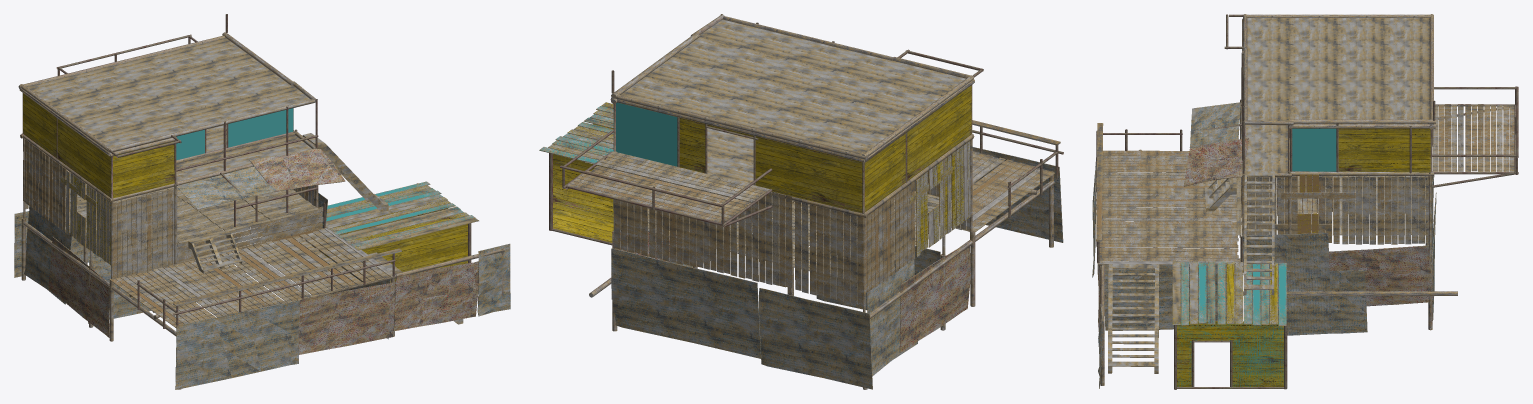
File: Bar.fbx
3 renders of one model, left to right at view 1: azimuth 30°, elevation 25°; view 2: azimuth 150°, elevation 25°; view 3: azimuth 270°, elevation 25°, orthographic. The views are drawn at different scales.
Parts seen in each view (by area): view 1: Group1; view 2: Group1; view 3: Group1.
Boxes of the visible parts, x1=… form: Group1: x1=14, y1=14, x2=510, y2=389; Group1: x1=539, y1=14, x2=1063, y2=389; Group1: x1=1092, y1=14, x2=1518, y2=389.
Size of the model in its own units: 1244 by 756 by 1261.
